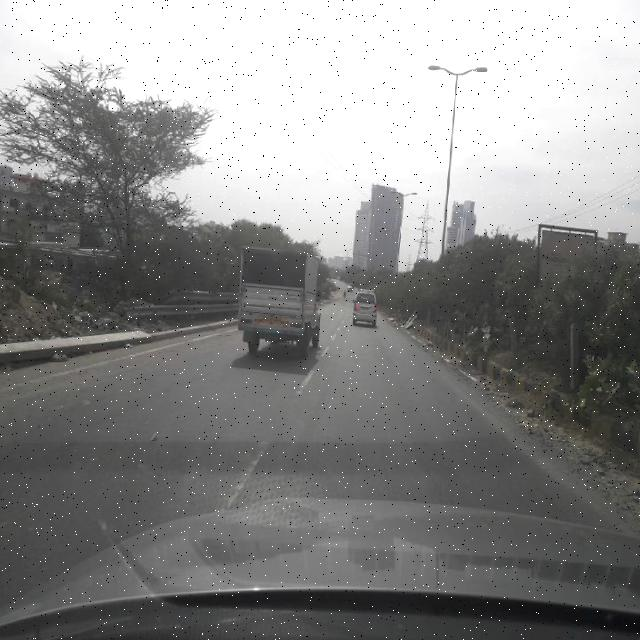D44: (223, 432, 277, 509)
